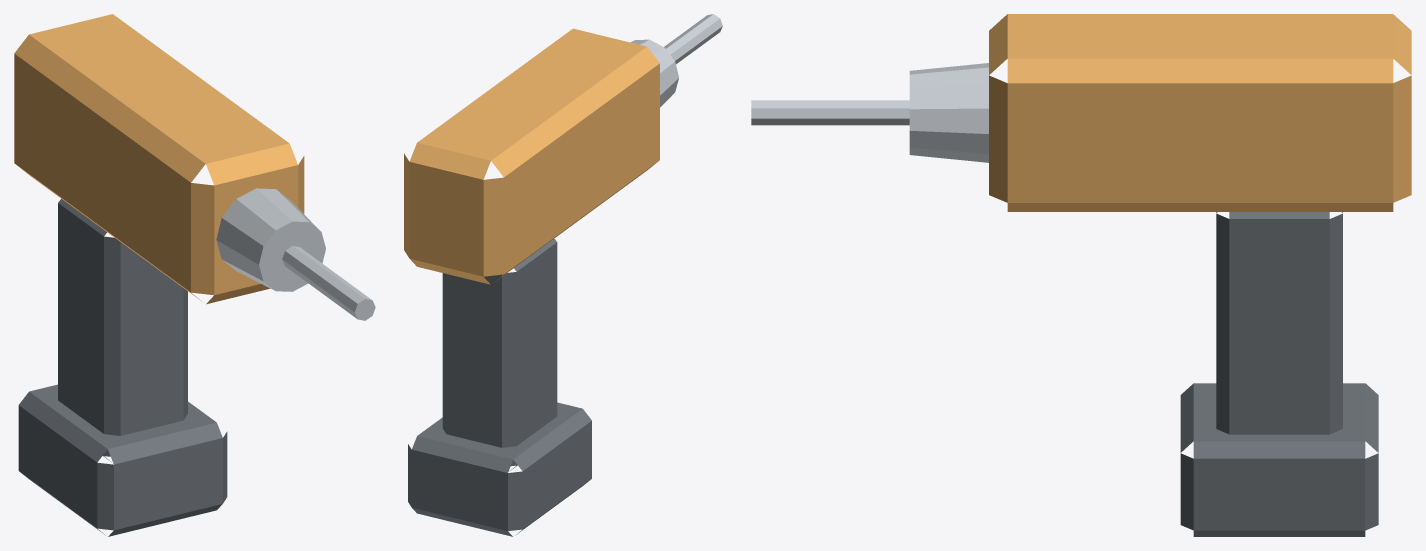
Rendered from power_drill.glb.
The picture shows the model from 3 angles, left to right: view 1: azimuth 30°, elevation 25°; view 2: azimuth 150°, elevation 25°; view 3: azimuth 270°, elevation 25°; orthographic projection. The views are drawn at different scales.
Parts seen in each view (by area): view 1: HousingAccent, ErgonomicGrip, MetalBody; view 2: HousingAccent, ErgonomicGrip, MetalBody; view 3: HousingAccent, ErgonomicGrip, MetalBody.
Part boxes in pixels (x1,y1,x2,y2): HousingAccent: [14, 14, 304, 304]; ErgonomicGrip: [18, 198, 227, 536]; MetalBody: [216, 188, 375, 320]; HousingAccent: [404, 28, 659, 284]; ErgonomicGrip: [408, 238, 591, 536]; MetalBody: [630, 14, 722, 107]; HousingAccent: [989, 14, 1411, 211]; ErgonomicGrip: [1180, 212, 1378, 536]; MetalBody: [751, 63, 988, 162].
Size of the model in its own units: 0.124 by 0.394 by 0.5.
